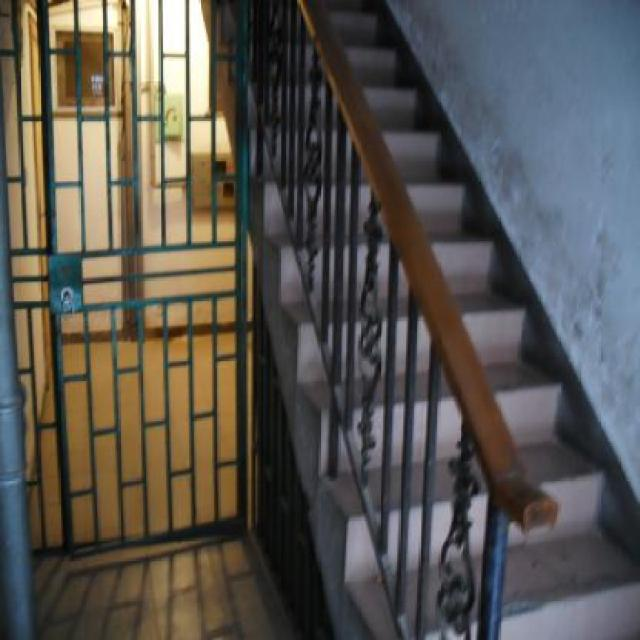stair: (220, 0, 640, 640)
